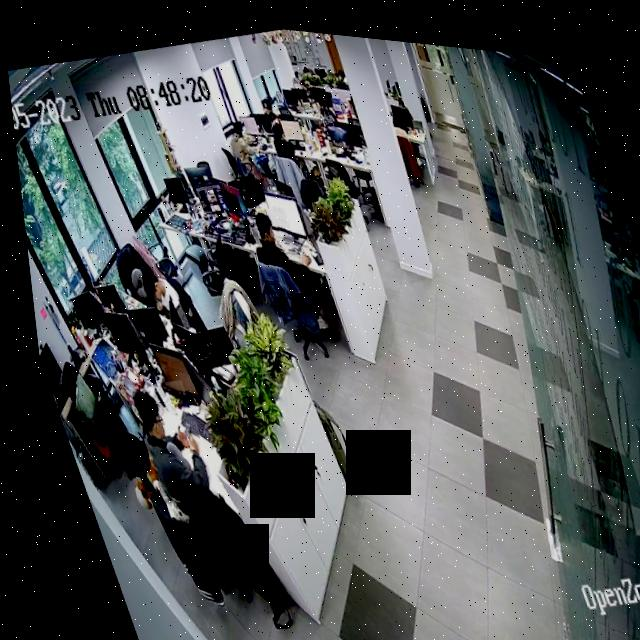person: (115, 372, 216, 519), (235, 197, 314, 315), (127, 256, 189, 342), (217, 112, 263, 178), (253, 88, 284, 134)
